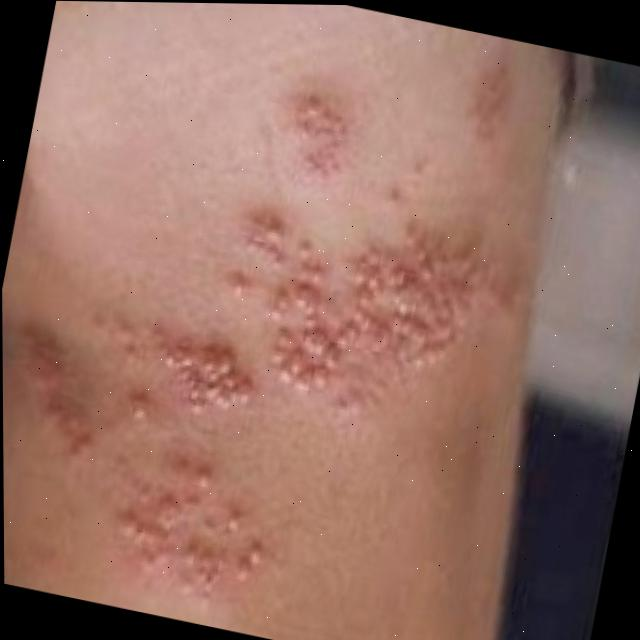Shingles: (250, 197, 532, 431), (2, 318, 244, 577)
